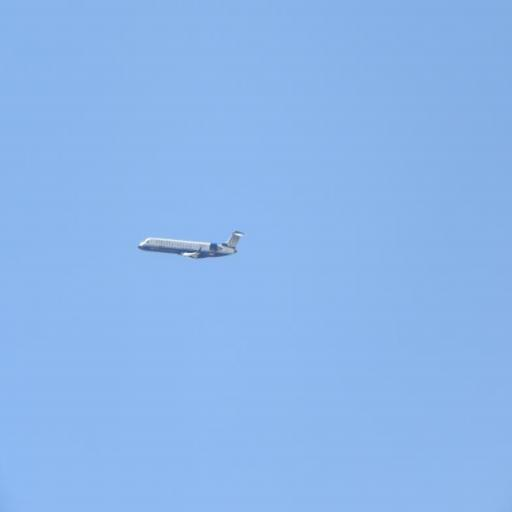aircraft: (138, 231, 245, 259)
